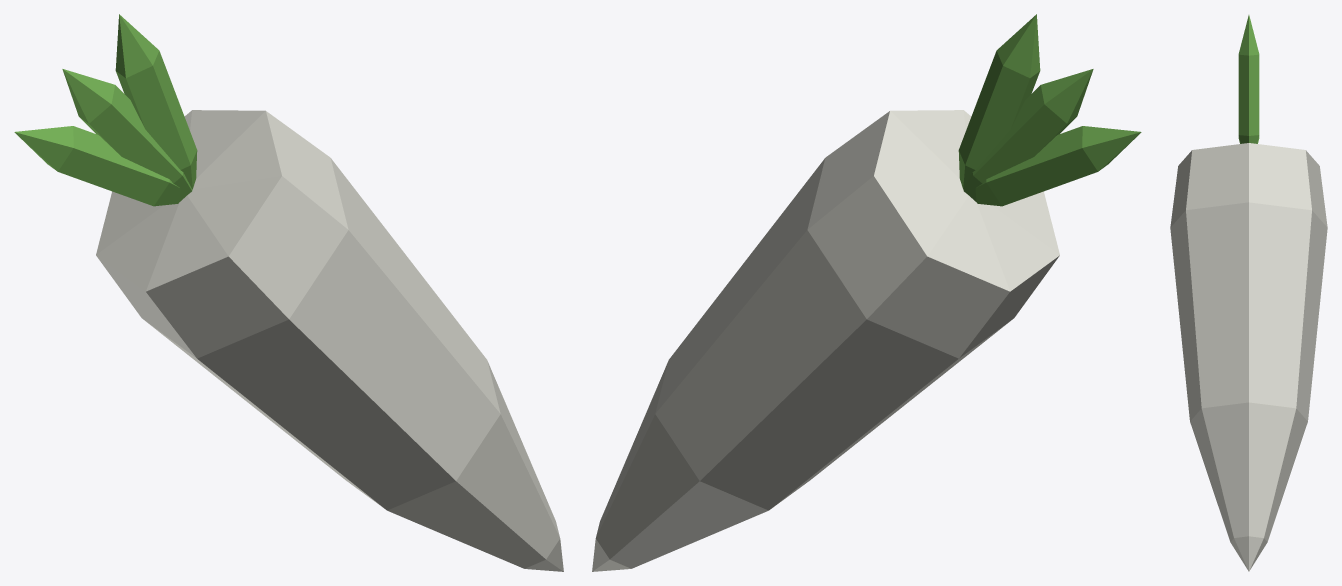
The model's file is Food_Radish.obj.
3 views of the same model, side by side, from view 1: azimuth 30°, elevation 25°; view 2: azimuth 150°, elevation 25°; view 3: azimuth 270°, elevation 25° (orthographic). The views are drawn at different scales.
Size of the model in its own units: 1.89 by 2.19 by 0.741.
